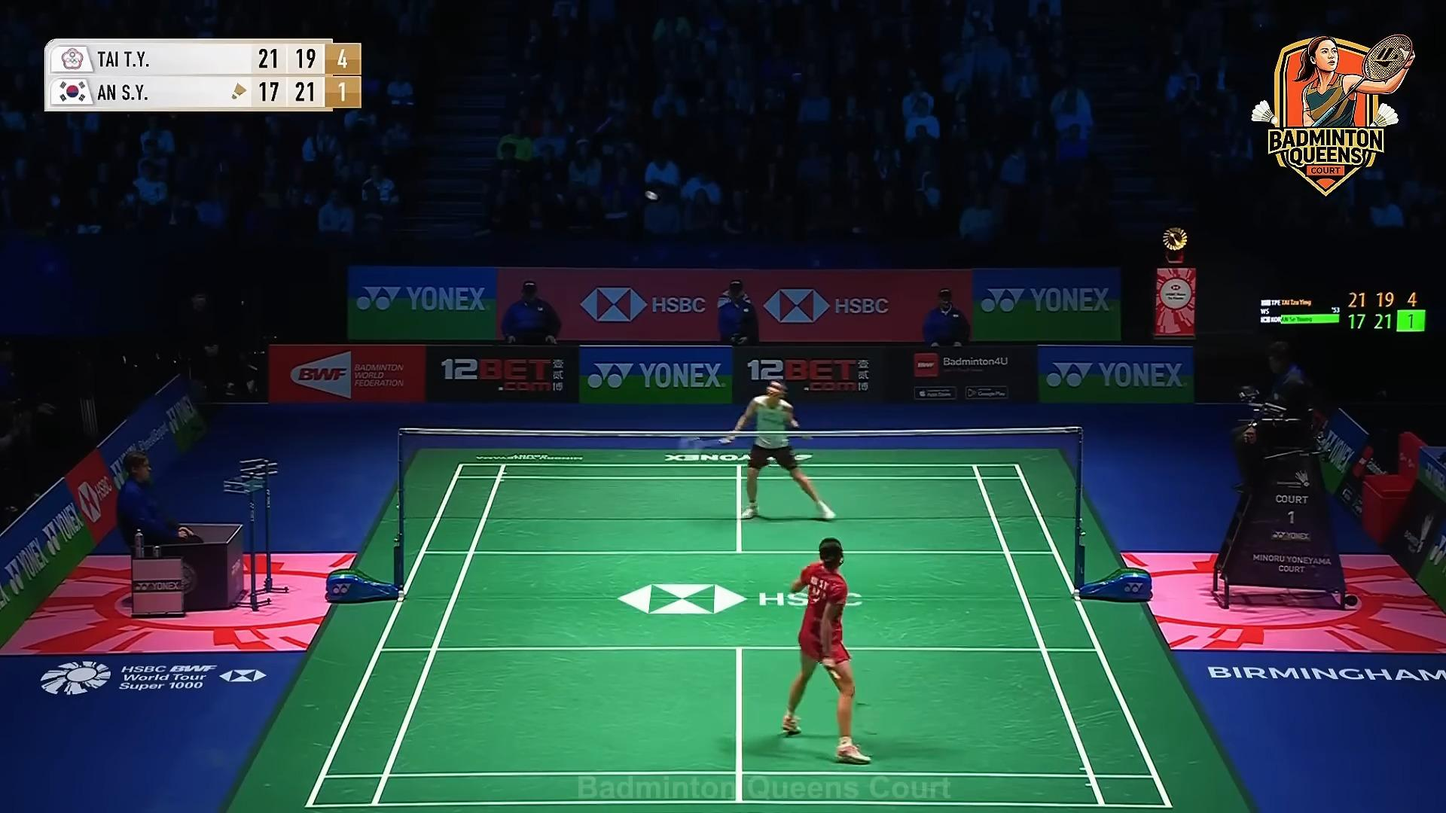shuttlecock: (646, 188, 660, 202)
